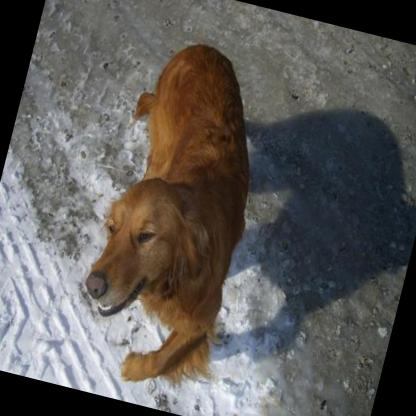Irish_setter: (64, 28, 288, 399)
